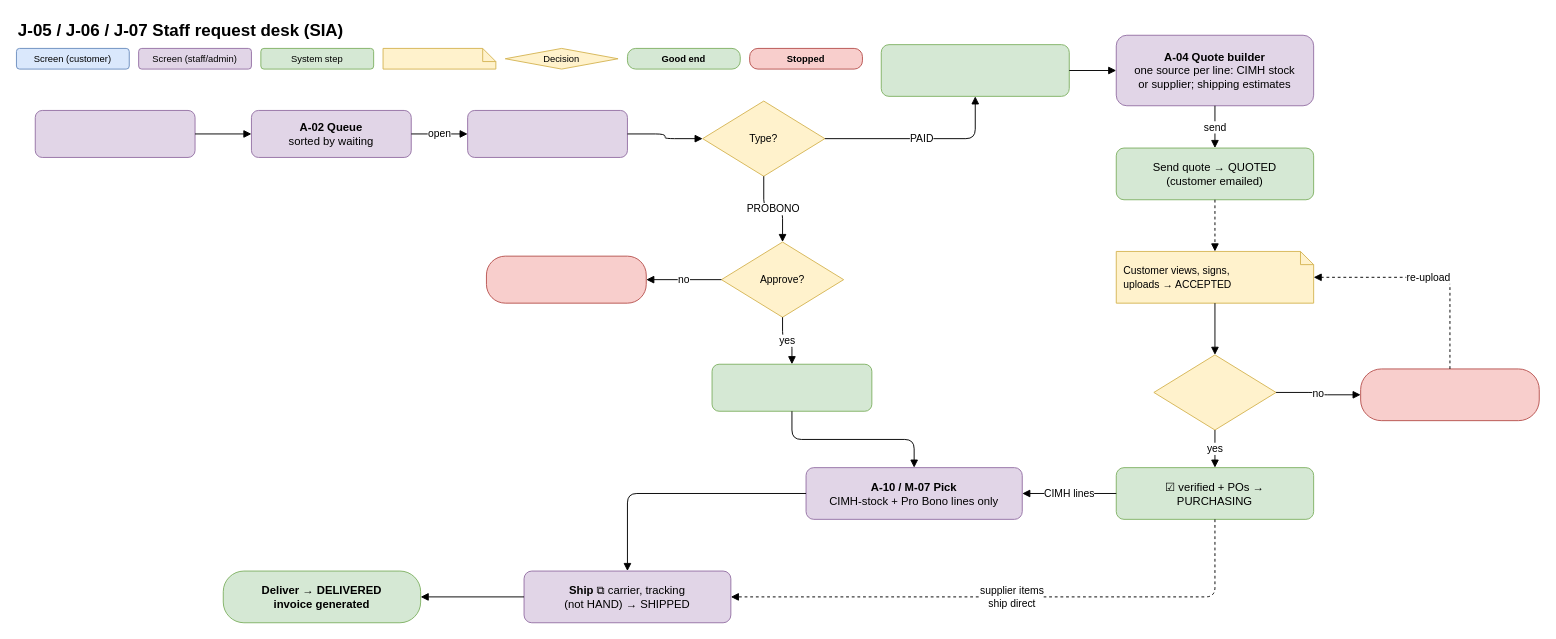
The diagram is 1556 pixels wide and 639 high, and some of its shapes have lost their labels. The centre of each missing label's shape, as x and y in pixels:
A-01 Dashboard counters: point 114,133
A-03 Request allowedActions: point 547,133
APPROVED (stock reserved): point 791,387
Email: point 439,58
Reject signature → QUOTED (stock kept): point 1449,394
REJECTED (reason): point 566,279
Signature OK?: point 1214,392
Start quoting (stock check) → QUOTING: point 974,70
